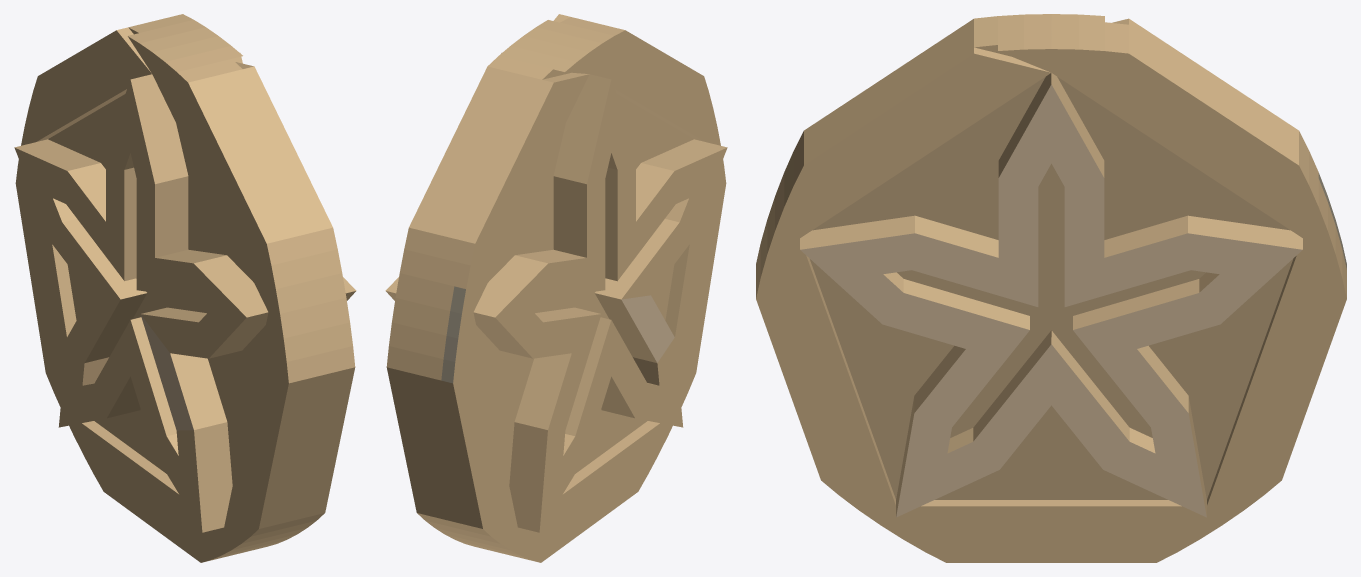
The model's file is Coin Colored.fbx.
3 renders of one model, left to right at view 1: azimuth 30°, elevation 25°; view 2: azimuth 150°, elevation 25°; view 3: azimuth 270°, elevation 25°, orthographic. The views are drawn at different scales.
Visible parts, largest first — view 1: group2_pasted__group_pasted__pasted__pCylinder5; view 2: group2_pasted__group_pasted__pasted__pCylinder5; view 3: group2_pasted__group_pasted__pasted__pCylinder5.
Boxes of the visible parts, box(x1,y1,x2,y2) form: group2_pasted__group_pasted__pasted__pCylinder5: box(14, 14, 356, 562); group2_pasted__group_pasted__pasted__pCylinder5: box(385, 14, 727, 562); group2_pasted__group_pasted__pasted__pCylinder5: box(756, 14, 1346, 562).
Size of the model in its own units: 0.519 by 2.15 by 2.24.
